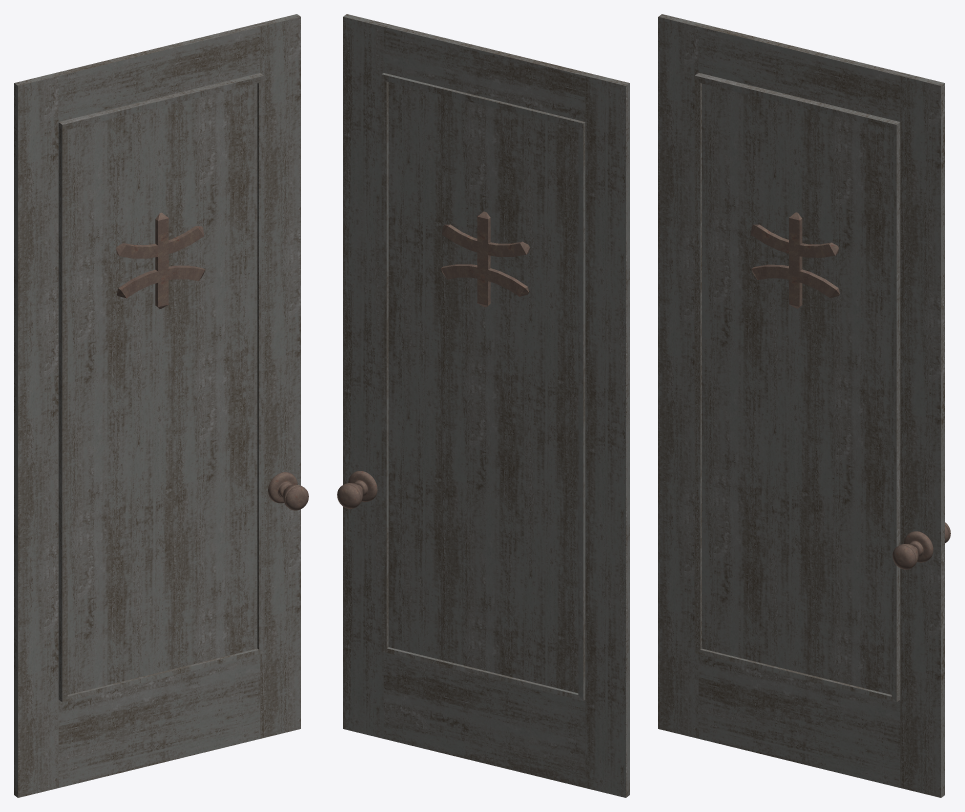
The model's file is puerta.obj.
3 views of the same model, side by side, from view 1: azimuth 30°, elevation 25°; view 2: azimuth 150°, elevation 25°; view 3: azimuth 330°, elevation 25° (orthographic).
Parts seen in each view (by area): view 1: Door, Door.001; view 2: Door, Door.001; view 3: Door, Door.001.
Part boxes in pixels (x1=…): Door: x1=14, y1=14, x2=308, y2=797; Door.001: x1=116, y1=212, x2=204, y2=308; Door: x1=337, y1=14, x2=629, y2=797; Door.001: x1=441, y1=211, x2=529, y2=307; Door: x1=658, y1=14, x2=950, y2=797; Door.001: x1=750, y1=212, x2=839, y2=308.
Bounding box in the file's own units: 1.29 × 3.09 × 0.3281.
Materials: 2 (2 with a texture image).
